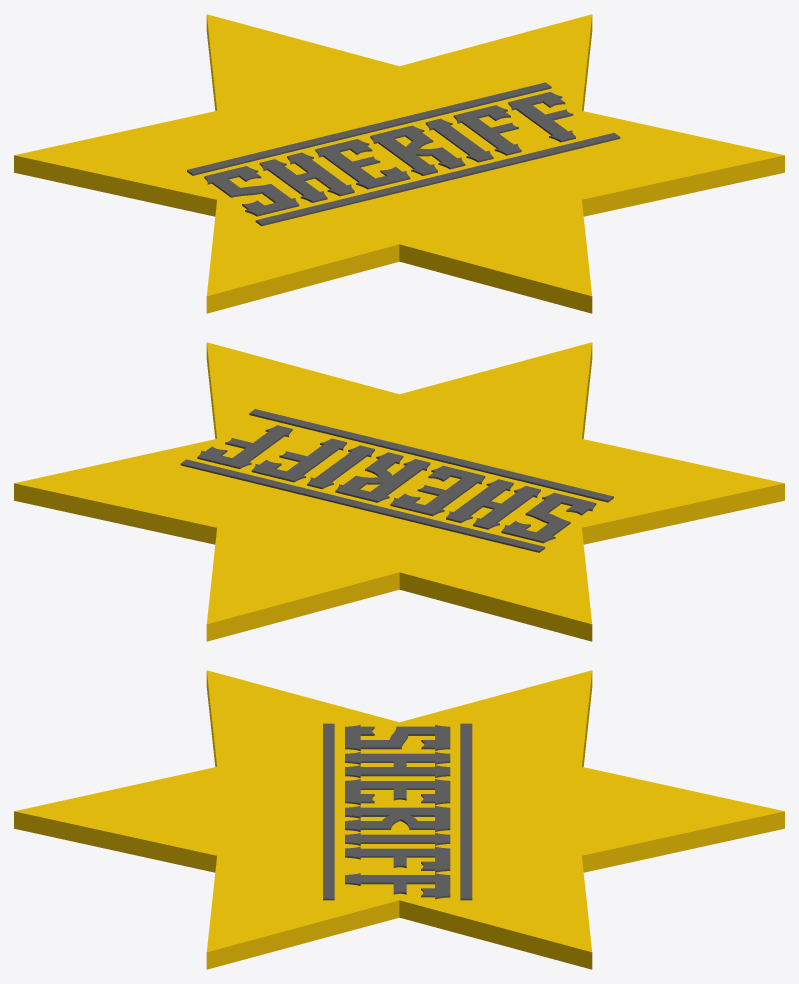
Rendered from Star.fbx.
3 views of the same model, one above another, from view 1: azimuth 30°, elevation 25°; view 2: azimuth 150°, elevation 25°; view 3: azimuth 270°, elevation 25° (orthographic).
Visible parts, largest first — view 1: Circle, Text; view 2: Circle, Text; view 3: Circle, Text.
Boxes of the visible parts, x1,y1,x2,y2 form: Circle: [14, 14, 784, 313]; Text: [187, 82, 620, 226]; Circle: [14, 342, 784, 641]; Text: [180, 409, 613, 552]; Circle: [14, 670, 784, 969]; Text: [323, 723, 472, 900].
Bounding box in the file's own units: 173 × 5.47 × 200.
1 material, 1 textured.
